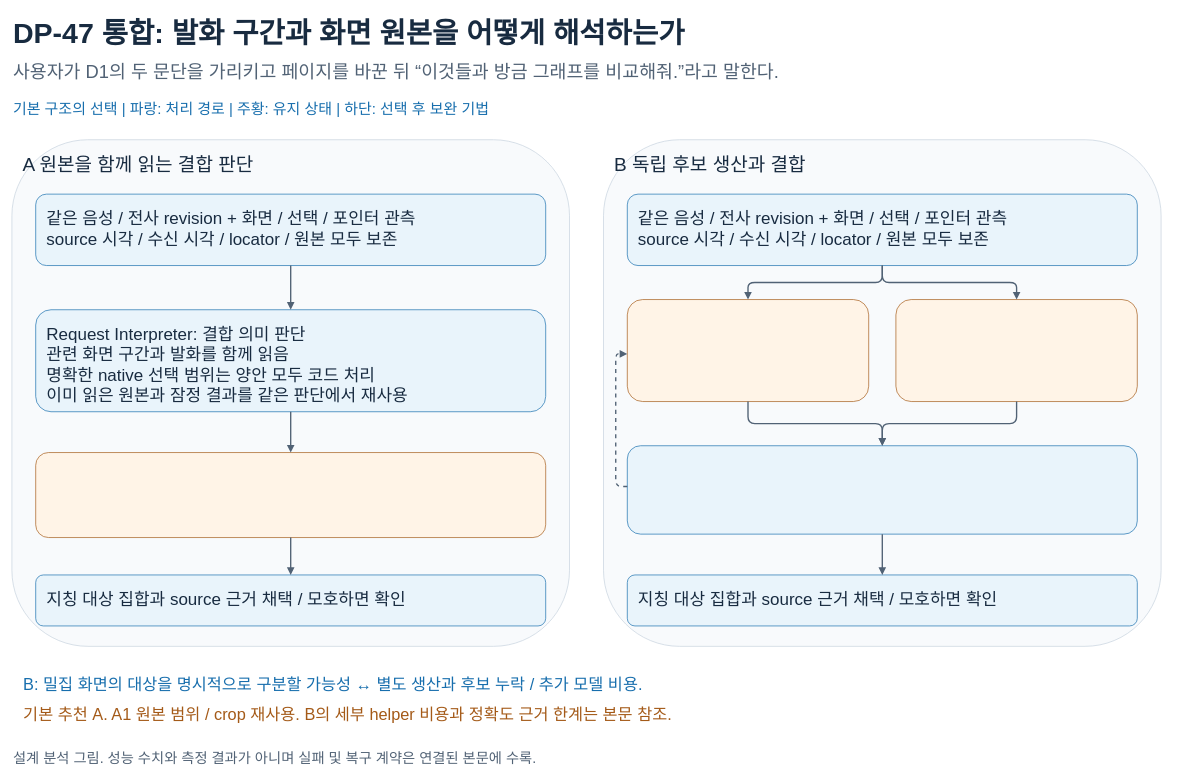
The diagram is 1183 pixels wide and 779 high, and some of its shapes have lost their labels. The centre of each missing label's shape, as x and y in pixels:
"발화 후보 생산 지칭 표현 / 구간 / 조건 전사 근거와 수정 범위 불명 / 경쟁 후보와 revision" belongs at (1016,350).
"현재 판단 문맥과 근거 의존 각 대상의 원본 참조 / 불확실성 / revision 변경된 근거에 맞춰 영향받은 판단 재수행" belongs at (290,495).
"화면 후보 생산 parser / local semantics 영역 / 관계 / 원본 근거 누락 / 경쟁 후보와 revision" belongs at (748,350).
"후보 결합: 일의적 typed 대응은 코드로 결합 자유 의미가 필요하면 모델로 결합 / 재질의 부족한 후보는 생산자가 원본에서 확장" belongs at (882,489).
